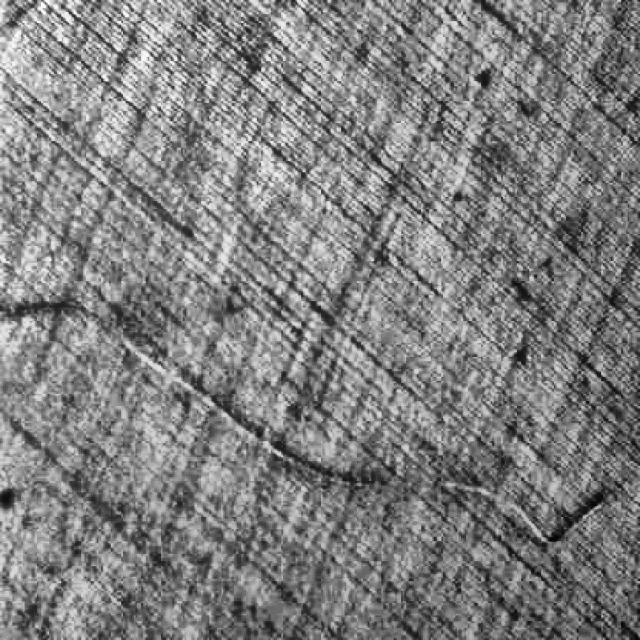objects: (0, 294, 621, 558)
